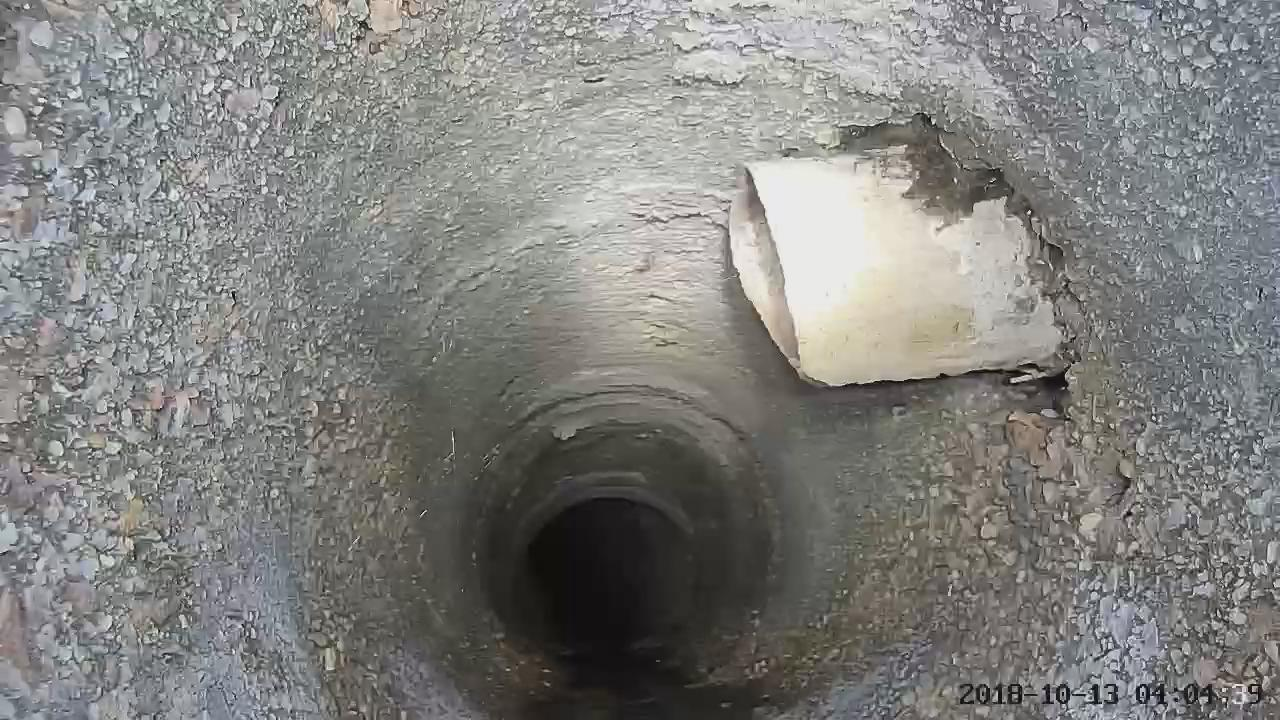ZGAJ: (728, 120, 1069, 385)
